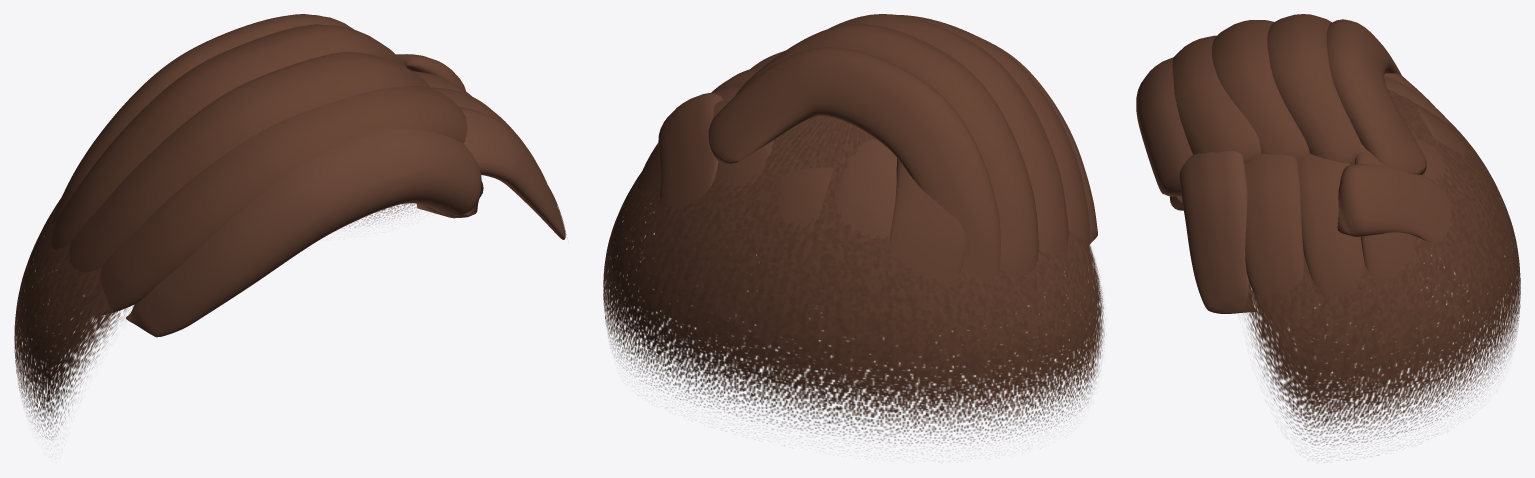
Rendered from hair.glb.
The picture shows the model from 3 angles, left to right: view 1: azimuth 30°, elevation 25°; view 2: azimuth 150°, elevation 25°; view 3: azimuth 270°, elevation 25°; orthographic projection. The views are drawn at different scales.
Parts seen in each view (by area): view 1: 226 hair / Hair252 / sculpted locks, 226 hair / Hair252 / gentle tonal variation, 226 hair / Hair255 / reconstructed coverage C; view 2: 226 hair / Hair255 / reconstructed coverage C, 226 hair / Hair252 / sculpted locks, 226 hair / Hair252 / gentle tonal variation; view 3: 226 hair / Hair252 / sculpted locks, 226 hair / Hair255 / reconstructed coverage C, 226 hair / Hair252 / gentle tonal variation.
Boxes of the visible parts, x1,y1,x2,y2 form: 226 hair / Hair252 / sculpted locks: (50,14,547,315); 226 hair / Hair252 / gentle tonal variation: (126,107,565,337); 226 hair / Hair255 / reconstructed coverage C: (14,185,566,439); 226 hair / Hair255 / reconstructed coverage C: (603,115,1104,450); 226 hair / Hair252 / sculpted locks: (627,14,1089,336); 226 hair / Hair252 / gentle tonal variation: (751,40,1097,334); 226 hair / Hair252 / sculpted locks: (1172,14,1497,319); 226 hair / Hair255 / reconstructed coverage C: (1242,90,1520,460); 226 hair / Hair252 / gentle tonal variation: (1136,57,1451,313).
Size of the model in its own units: 0.976 by 0.6944 by 0.7453.
3 materials, 1 textured.
